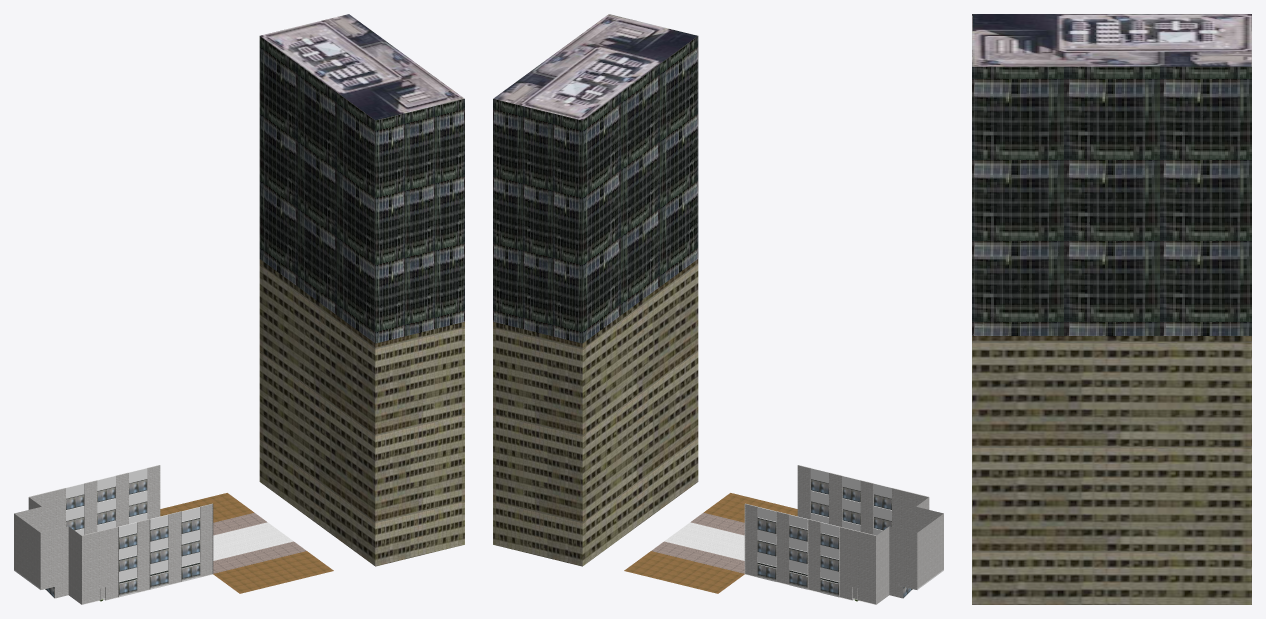
File: mitakiharahosipital_bicycleshed.fbx
3 views of the same model, side by side, from view 1: azimuth 30°, elevation 25°; view 2: azimuth 150°, elevation 25°; view 3: azimuth 270°, elevation 25° (orthographic). The views are drawn at different scales.
Parts seen in each view (by area): view 1: bill1, wall(entlance), floor; view 2: bill1, wall(entlance), floor; view 3: bill1.
Part boxes in pixels (left/top/right/bottom): bill1: left=259, top=14, right=464, bottom=566; wall(entlance): left=14, top=465, right=213, bottom=604; floor: left=103, top=493, right=333, bottom=599; bill1: left=493, top=14, right=698, bottom=566; wall(entlance): left=744, top=465, right=943, bottom=604; floor: left=624, top=493, right=854, bottom=599; bill1: left=972, top=14, right=1251, bottom=604.
Size of the model in its own units: 8207 by 9219 by 4340.
